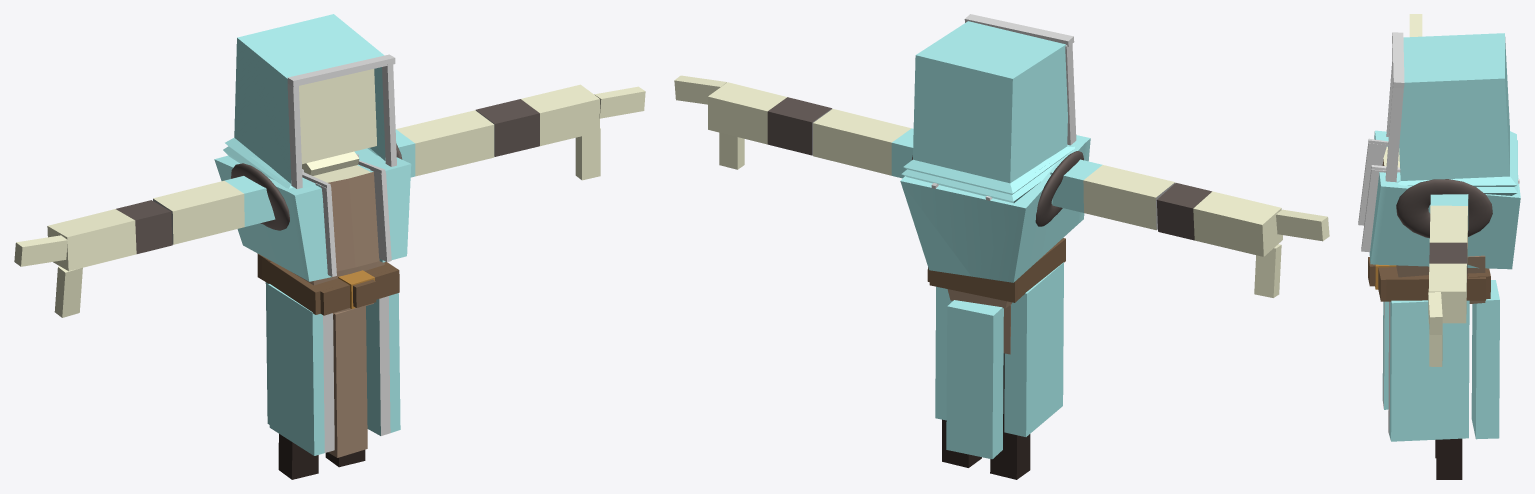
The model's file is Wizard_BASE.fbx.
3 views of the same model, side by side, from view 1: azimuth 30°, elevation 25°; view 2: azimuth 150°, elevation 25°; view 3: azimuth 270°, elevation 25° (orthographic). The views are drawn at different scales.
Visible parts, largest first — view 1: Head, hips, Torso1, Left_Forearm, Right_Forearm, Upper_Right_Arm, lower_torso, Upper_Left_Arm, right_fingers, Lower_Right_Leg, right_thumb, left_fingers (+2 smaller); view 2: Head, hips, Torso1, Right_Forearm, Left_Forearm, Upper_Right_Arm, Upper_Left_Arm, lower_torso, Lower_Right_Leg, right_fingers, right_thumb, left_fingers (+1 smaller); view 3: Head, hips, Torso1, lower_torso, Left_Forearm, Upper_Left_Arm, Lower_Left_Leg, left_fingers, left_thumb, right_fingers.
Boxes of the visible parts, x1,y1,x2,y2 form: Head: (223, 14, 396, 188); hips: (265, 282, 400, 457); Torso1: (214, 143, 411, 281); Left_Forearm: (475, 84, 599, 156); Right_Forearm: (47, 200, 172, 271); Upper_Right_Arm: (153, 176, 275, 244); lower_torso: (257, 253, 399, 315); Upper_Left_Arm: (395, 110, 494, 177); right_fingers: (14, 235, 67, 266); Lower_Right_Leg: (278, 434, 318, 479); right_thumb: (54, 266, 82, 317); left_fingers: (594, 86, 645, 118); Head: (901, 14, 1076, 203); hips: (935, 262, 1063, 459); Torso1: (900, 135, 1090, 282); Right_Forearm: (1156, 183, 1282, 256); Left_Forearm: (708, 82, 832, 155); Upper_Right_Arm: (1050, 159, 1175, 230); Upper_Left_Arm: (813, 109, 913, 178); lower_torso: (927, 238, 1065, 308); Lower_Right_Leg: (990, 393, 1030, 479); right_fingers: (1276, 209, 1329, 241); right_thumb: (1254, 244, 1281, 297); left_fingers: (674, 75, 726, 104); Head: (1385, 32, 1517, 195); hips: (1382, 280, 1499, 441); Torso1: (1358, 130, 1520, 269); lower_torso: (1368, 255, 1490, 303); Left_Forearm: (1428, 242, 1467, 323); Upper_Left_Arm: (1429, 194, 1468, 263); Lower_Left_Leg: (1436, 438, 1462, 479); left_fingers: (1428, 292, 1442, 334); left_thumb: (1429, 329, 1442, 366); right_fingers: (1409, 14, 1422, 36).
Size of the model in its own units: 331 by 209 by 76.22.
